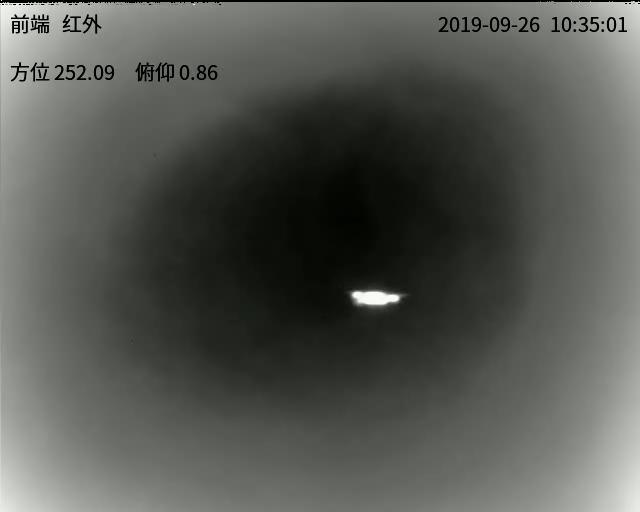uav: (350, 287, 403, 308)
